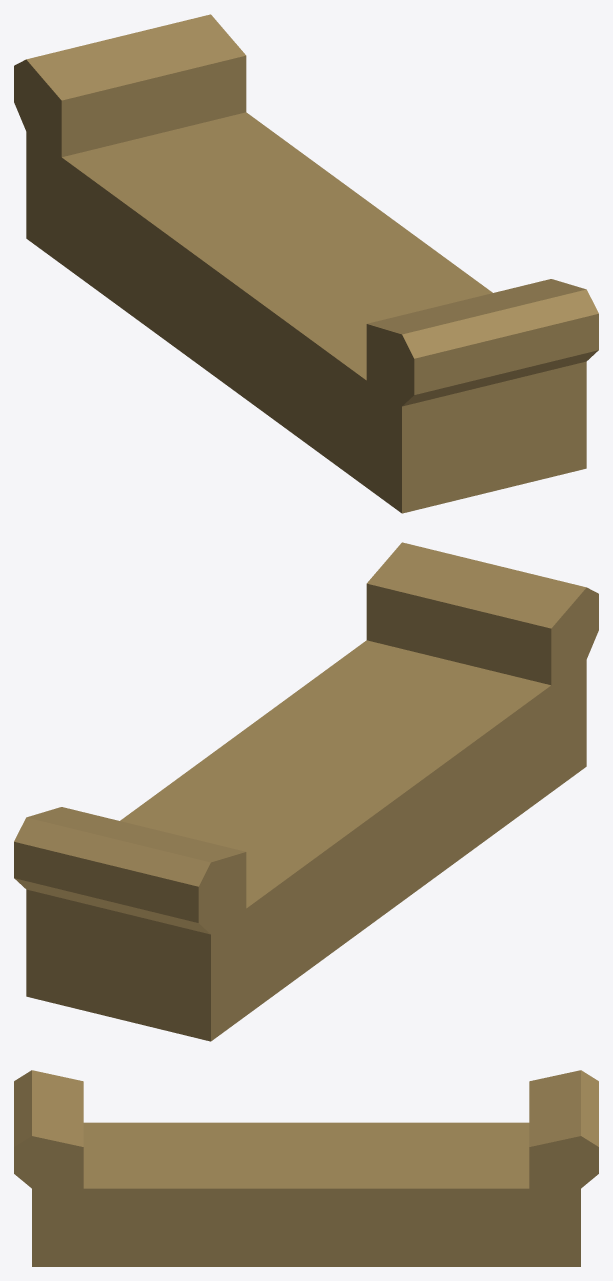
The model's file is sofa2.fbx.
3 views of the same model, one above another, from view 1: azimuth 30°, elevation 25°; view 2: azimuth 150°, elevation 25°; view 3: azimuth 270°, elevation 25° (orthographic). The views are drawn at different scales.
Parts seen in each view (by area): view 1: sofa2; view 2: sofa2; view 3: sofa2.
Boxes of the visible parts, left/top/right/bottom form: sofa2: left=14, top=14, right=598, bottom=513; sofa2: left=14, top=542, right=598, bottom=1041; sofa2: left=14, top=1070, right=598, bottom=1266.
Size of the model in its own units: 98.03 by 90.86 by 368.
